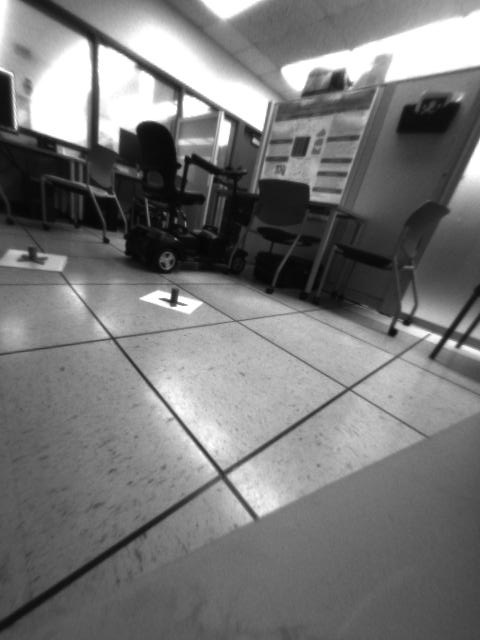X: (18, 242, 48, 267), (158, 287, 188, 306)
